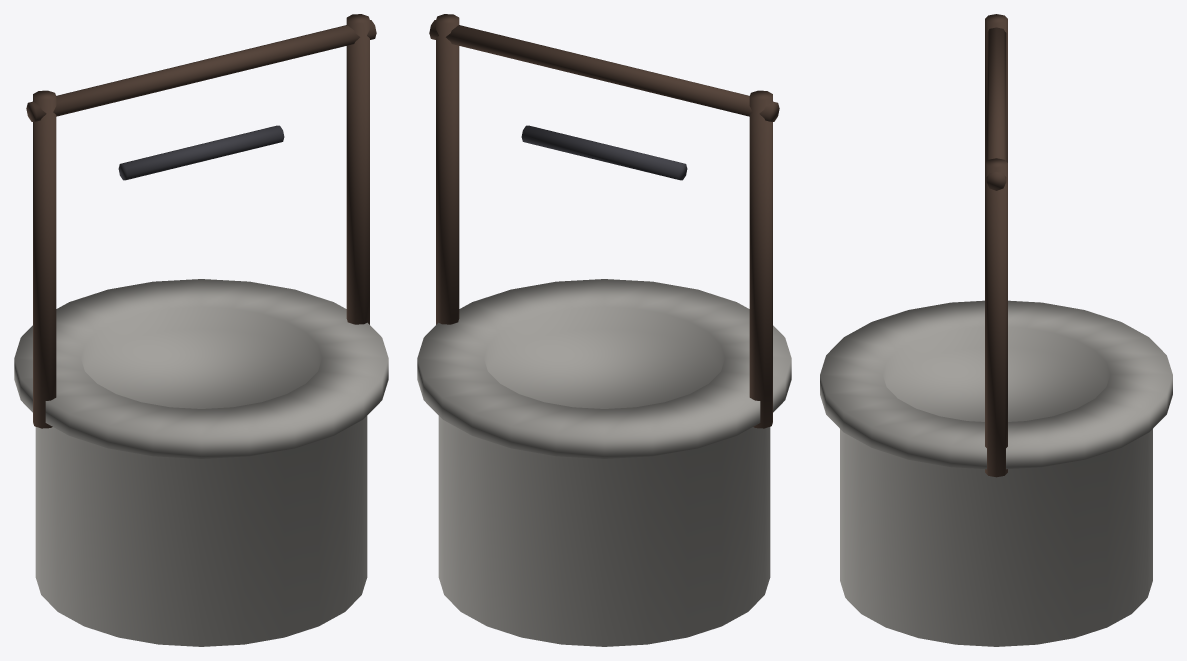
File: raised_floor_well.glb
3 views of the same model, side by side, from view 1: azimuth 30°, elevation 25°; view 2: azimuth 150°, elevation 25°; view 3: azimuth 270°, elevation 25° (orthographic). The views are drawn at different scales.
Visible parts, largest first — view 1: GD_raised_floor_well__m0, GD_raised_floor_well__m2, GD_raised_floor_well__m3; view 2: GD_raised_floor_well__m0, GD_raised_floor_well__m2, GD_raised_floor_well__m3; view 3: GD_raised_floor_well__m0, GD_raised_floor_well__m2.
Part boxes in pixels (x1,y1,x2,y2): GD_raised_floor_well__m0: [14, 279, 388, 646]; GD_raised_floor_well__m2: [26, 14, 376, 428]; GD_raised_floor_well__m3: [118, 125, 284, 180]; GD_raised_floor_well__m0: [417, 279, 791, 646]; GD_raised_floor_well__m2: [429, 14, 779, 428]; GD_raised_floor_well__m3: [521, 125, 687, 180]; GD_raised_floor_well__m0: [820, 300, 1172, 646]; GD_raised_floor_well__m2: [985, 14, 1007, 477].
Bounding box in the file's own units: 1.3 × 1.9 × 1.24.
